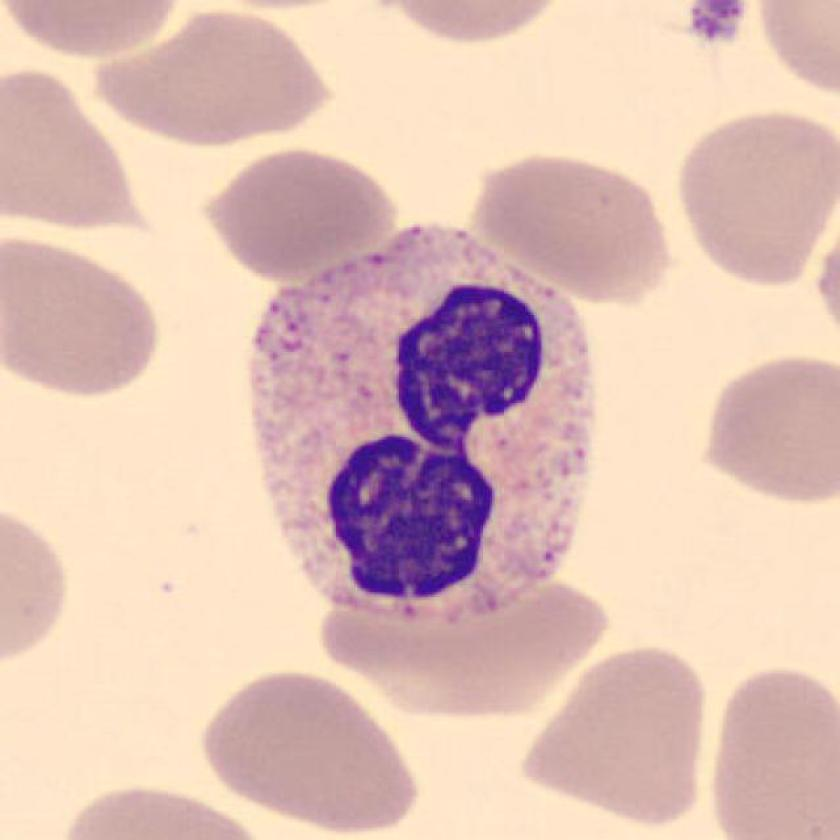neutrophil: (250, 227, 593, 619)
